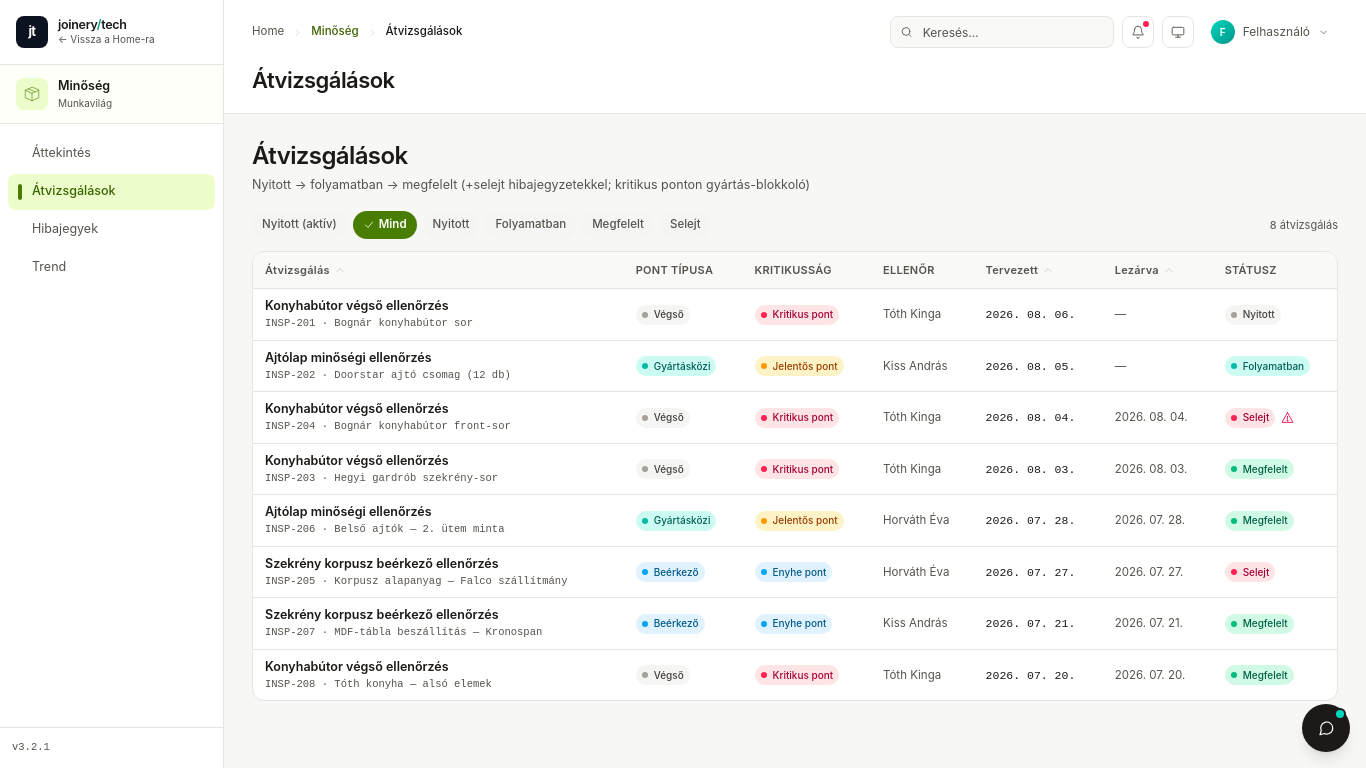
Test: QaPage (route-diszpécser, API-vezérelt képernyők) › clicking an inspection opens the detail SlideOver with checklist and FSM stepper
Click the text "INSP-202 · Doorstar ajtó csomag (12 db)": (388, 375) [265,368,511,383]
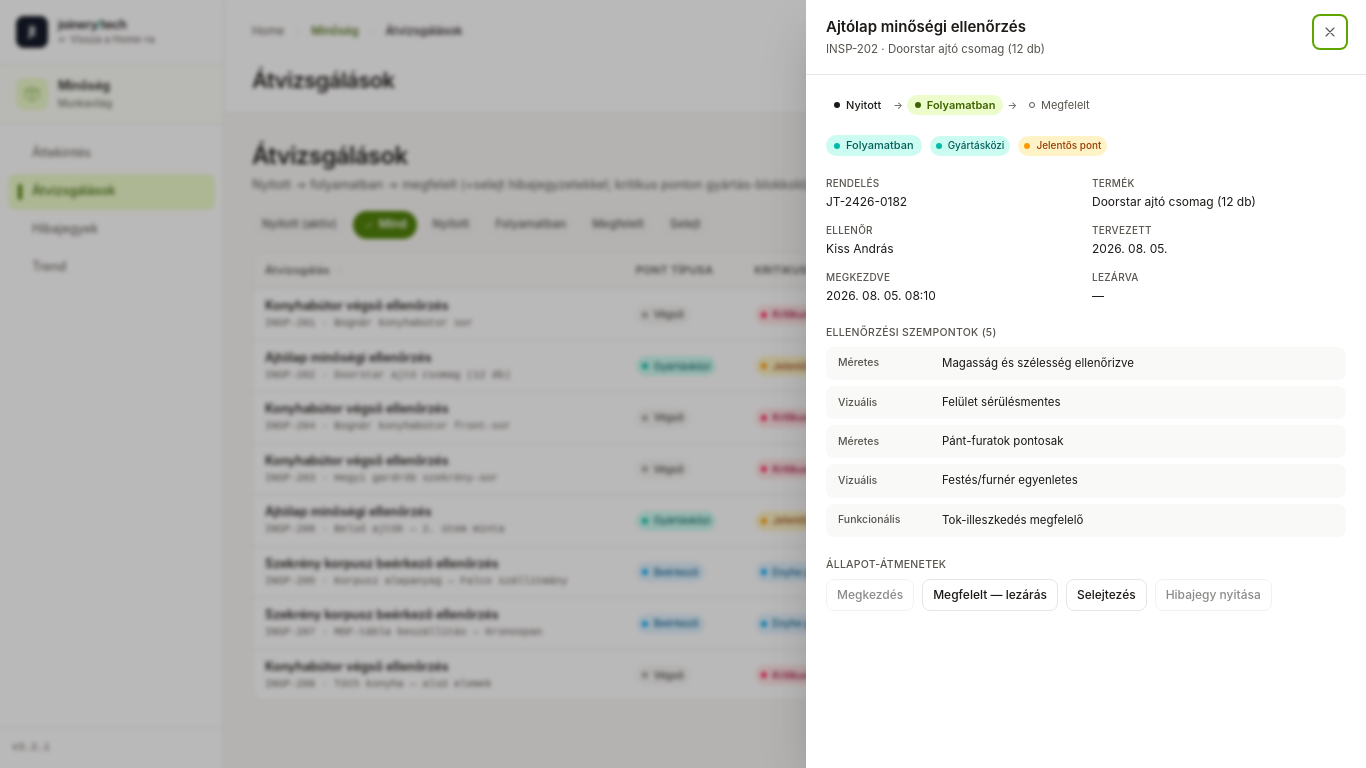
Expected: the text "Állapot-átmenetek" is shown, [826,558,946,571]
Expected: the list named "Átvizsgálás állapota" is shown, [834,95,1090,115]
Expected: the list named "Ellenőrzési szempontok" is shown, [826,346,1346,537]
